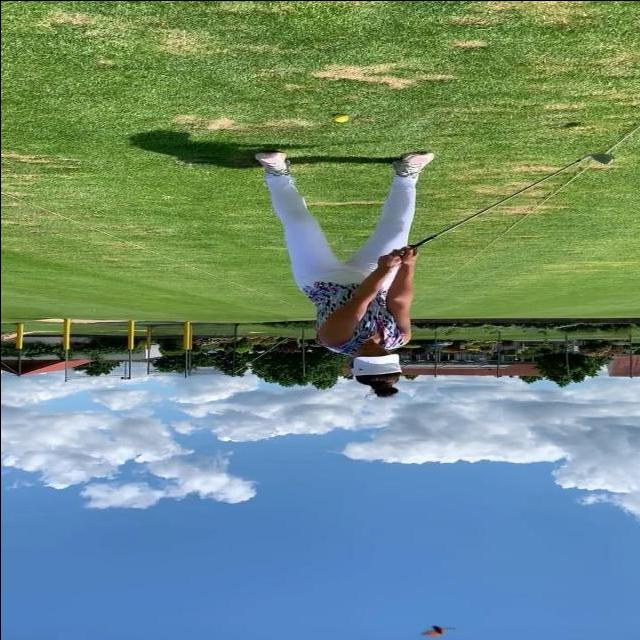ClubHandle: (403, 152, 612, 250)
ClubHead: (592, 152, 612, 163)
GolfBall: (333, 114, 348, 121)
